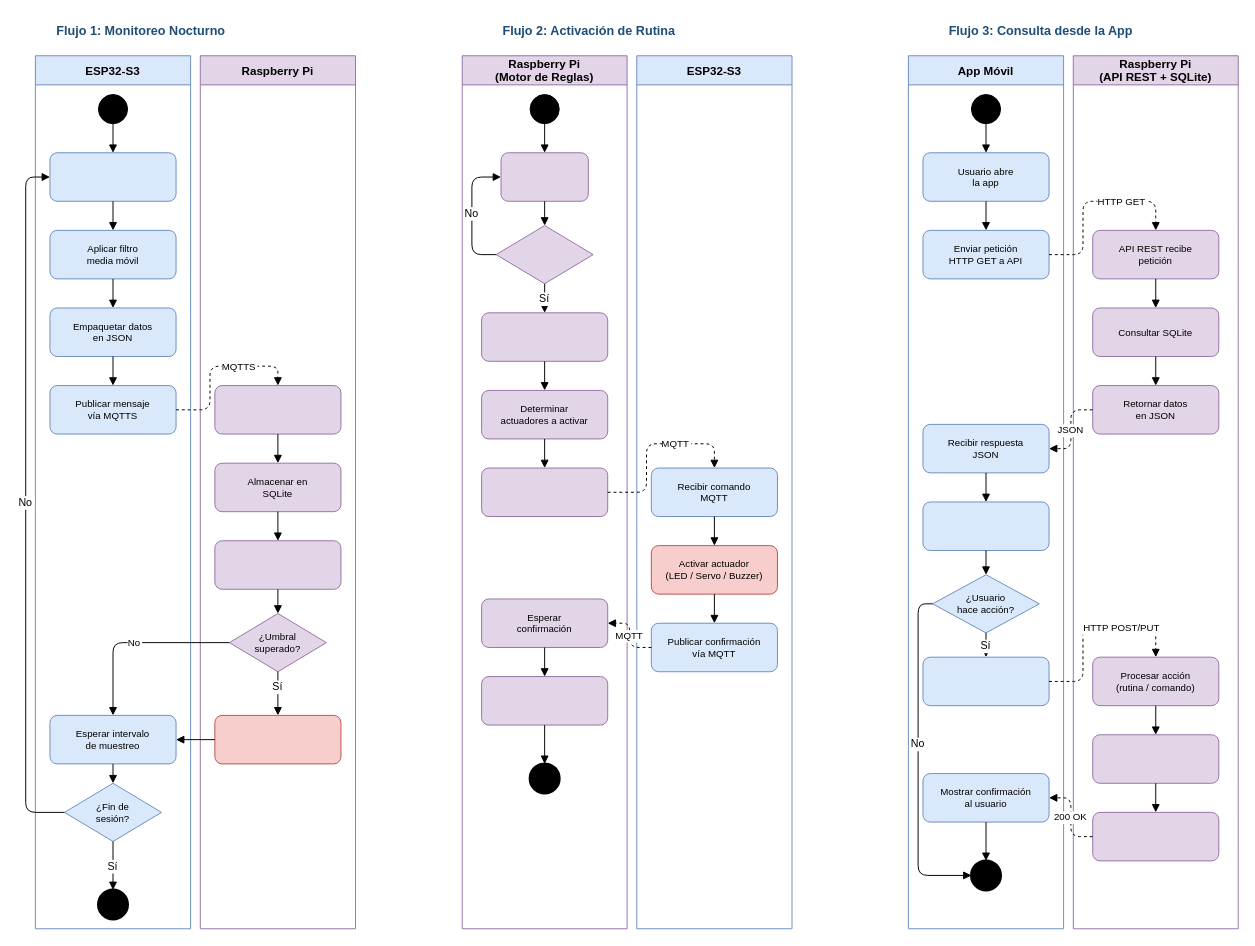
This 1255x946 diagram has some shape labels left out. Here are the shapes that lost their labels. From the top down, the centre of each, then its label:
point 112,176: Leer sensores (Temp, Hum, Luz, Ruido)
point 544,176: Verificar hora programada
point 544,254: ¿Hora de rutina?
point 544,336: Evaluar condiciones ambientales
point 277,409: Broker Mosquitto recibe mensaje
point 544,492: Enviar comando vía MQTT
point 985,525: Visualizar datos en pantalla
point 277,564: Evaluar umbrales configurados
point 544,700: Registrar ejecución en SQLite
point 985,681: Enviar petición HTTP POST/PUT
point 277,739: Generar alerta y notificar app
point 1155,758: Guardar cambios en SQLite
point 1155,836: Retornar confirmación
